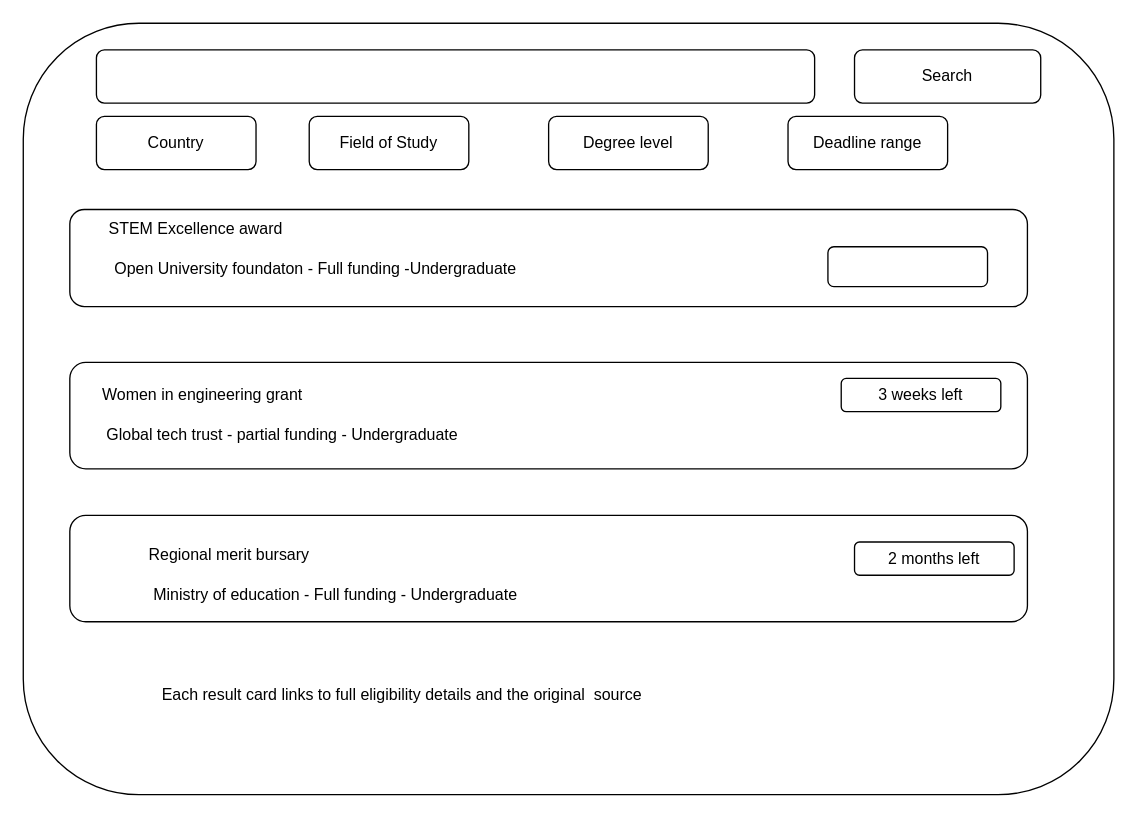
This 1137x818 diagram has some shape labels left out. Each missing label, with the centre of its shape:
"5 days left" belongs at point (907, 266).
"Search scholarship( e.g. engineering ,Kenya)" belongs at point (455, 76).
